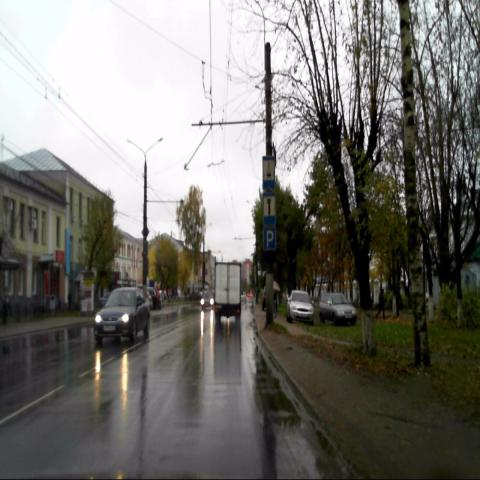7_4: (262, 192, 276, 227)
7_5: (262, 155, 276, 190)
